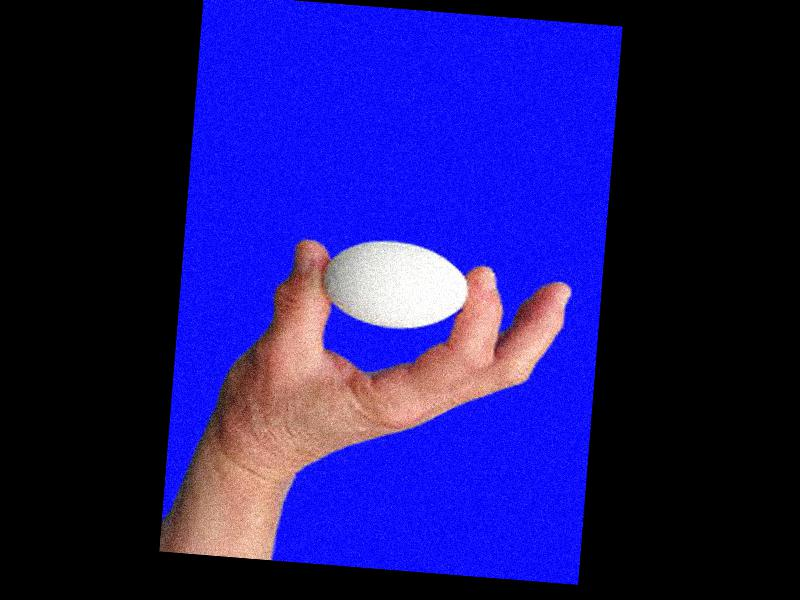Eggs: (320, 236, 474, 334)
